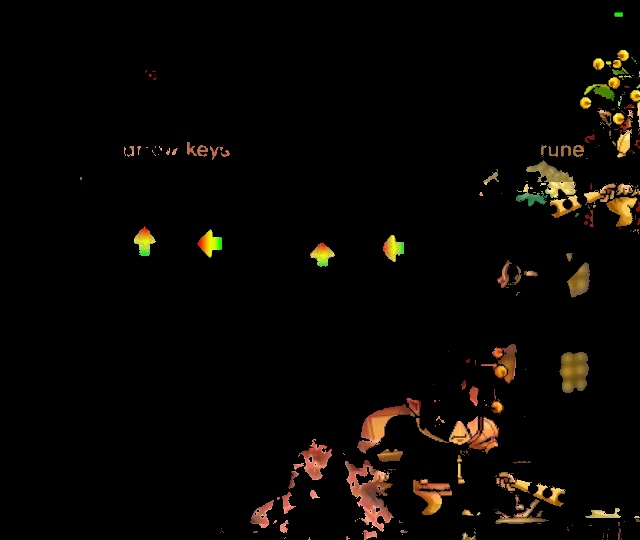left: (373, 226, 417, 271), (189, 224, 231, 267)
up: (301, 235, 342, 277), (124, 221, 164, 263)
